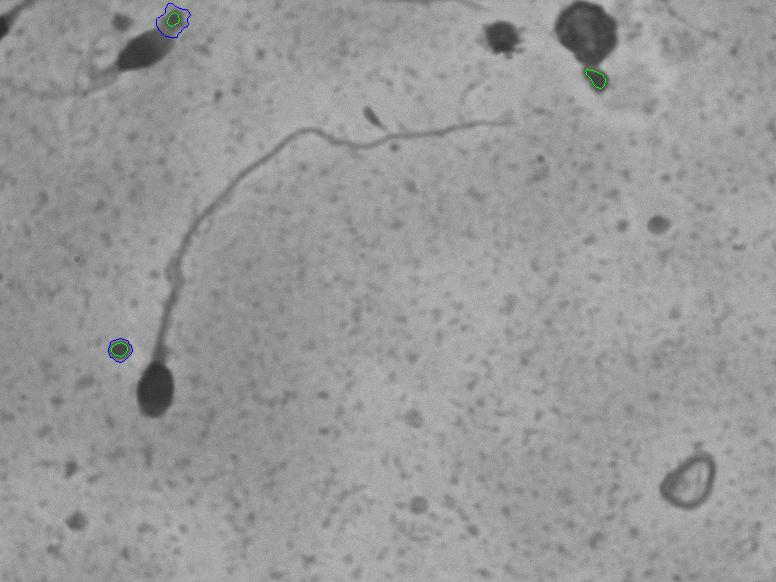Normal: (120, 109, 530, 432)
